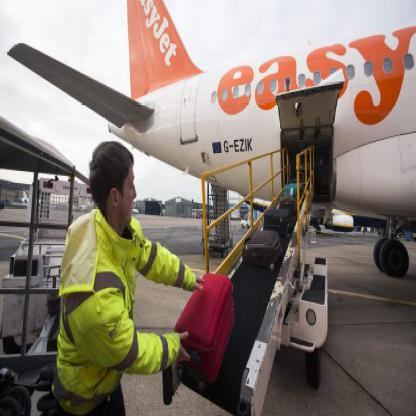baggagetruck: (158, 124, 340, 415)
